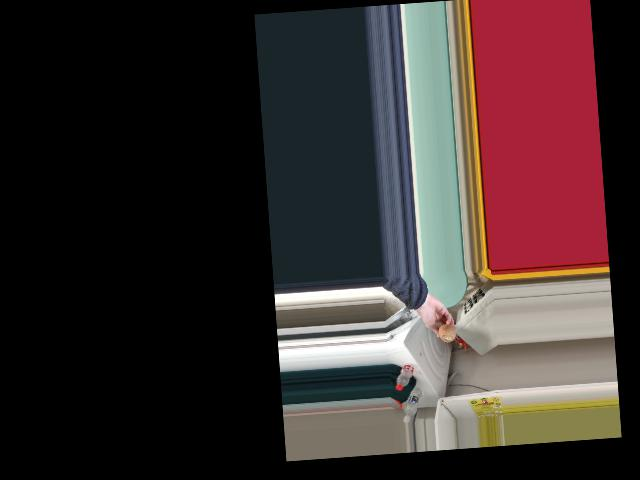sweet_potato: (437, 321, 454, 342)
